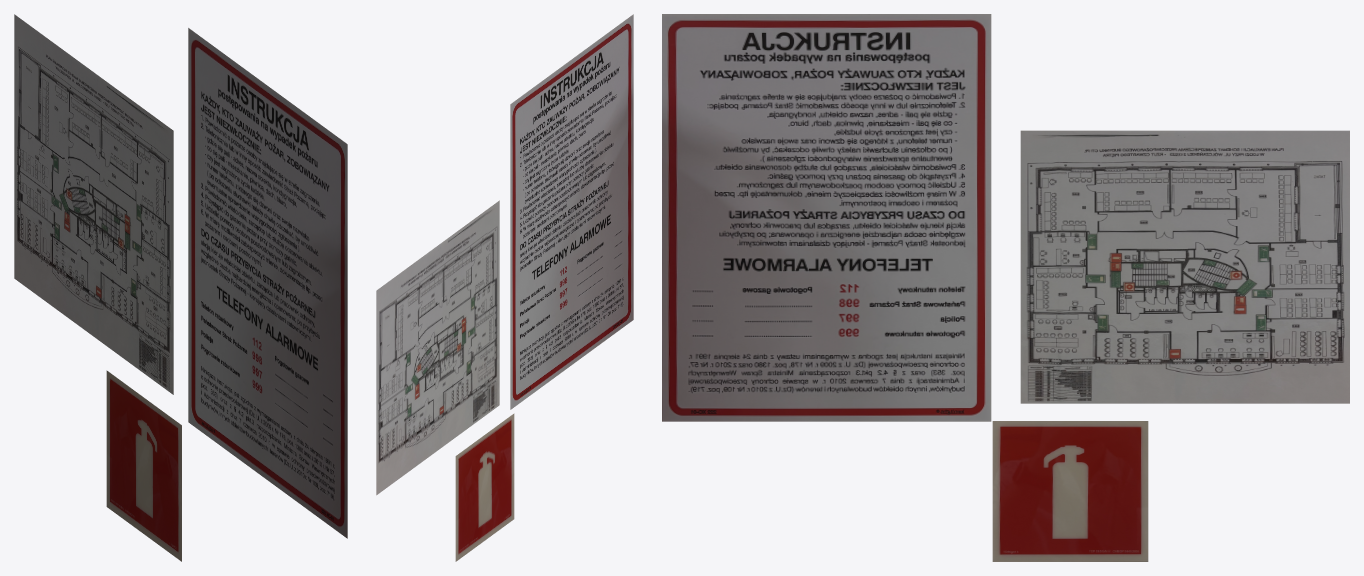
The model's file is wall_signs.fbx.
3 renders of one model, left to right at view 1: azimuth 30°, elevation 25°; view 2: azimuth 150°, elevation 25°; view 3: azimuth 270°, elevation 25°, orthographic. The views are drawn at different scales.
Visible parts, largest first — view 1: wall_signs; view 2: wall_signs; view 3: wall_signs.
Part boxes in pixels (x1,y1,x2,y2): wall_signs: (14, 14, 347, 561); wall_signs: (376, 14, 633, 561); wall_signs: (662, 14, 1349, 561).
Bounding box in the file's own units: 0.6034 × 52.91 × 59.88.
1 material, 1 textured.
